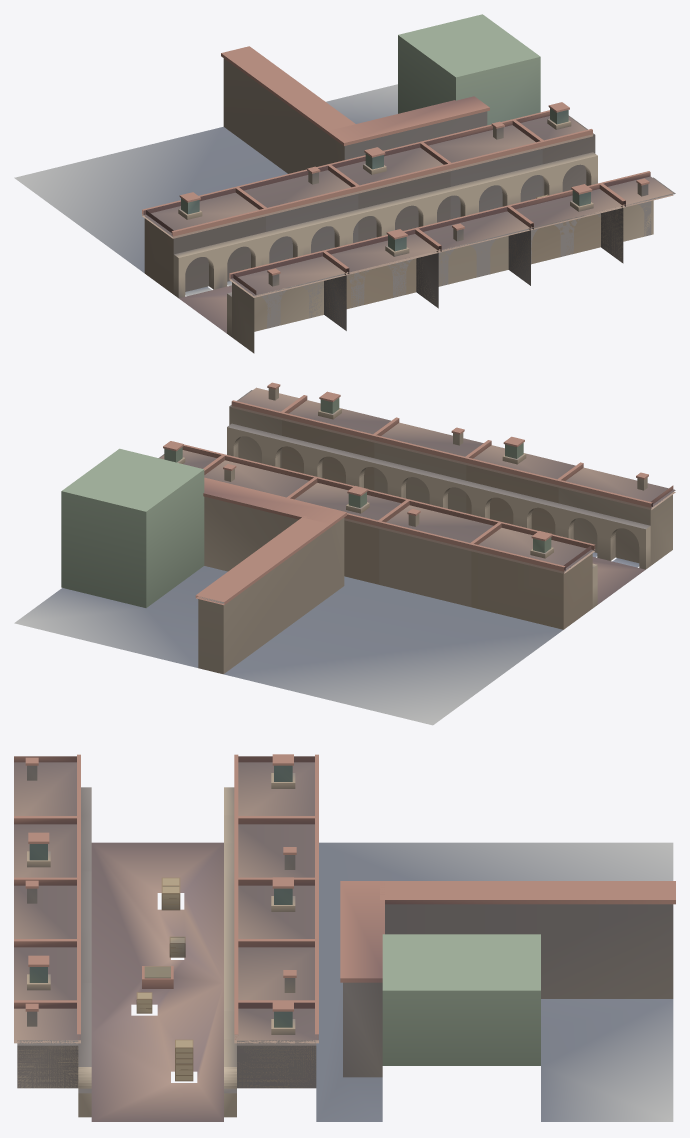
3 views of the same model, one above another, from view 1: azimuth 30°, elevation 25°; view 2: azimuth 150°, elevation 25°; view 3: azimuth 270°, elevation 25° (orthographic). The views are drawn at different scales.
Visible parts, largest first — view 1: t; view 2: t; view 3: t.
Part boxes in pixels (x1=…): t: x1=14, y1=14, x2=675, y2=353; t: x1=14, y1=382, x2=675, y2=725; t: x1=14, y1=754, x2=675, y2=1121.
Size of the model in its own units: 50.49 by 11 by 50.08.
